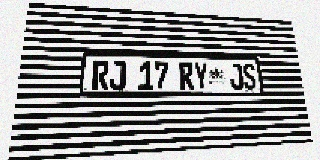1: (138, 61, 154, 90)
7: (154, 62, 169, 90)
J: (109, 61, 126, 90), (229, 63, 244, 90)
R: (92, 60, 109, 90), (179, 62, 195, 90)
S: (242, 64, 257, 90)
Y: (194, 62, 209, 90)
